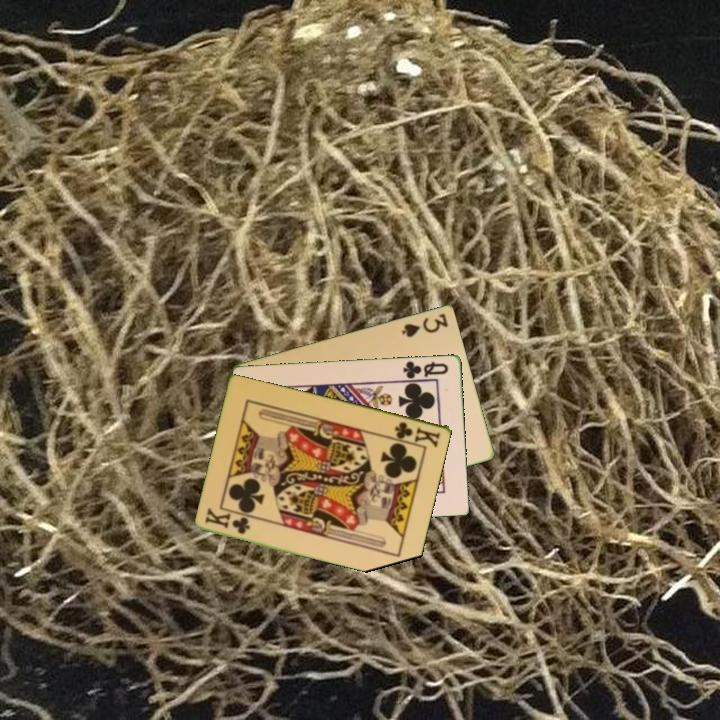3s: (398, 309, 451, 340)
Kc: (392, 418, 443, 449), (202, 506, 253, 537)
Qc: (400, 357, 452, 381)
